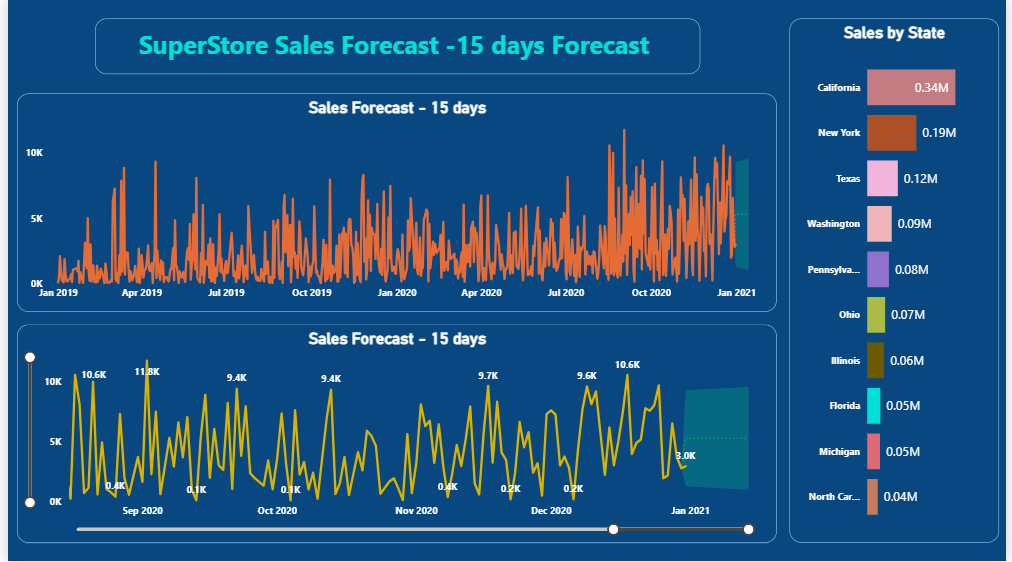

The page's visual inventory and layout, read from the dashboard file:
{"tool":"powerbi","page":{"name":"Sales Forecast ","canvas":[1280,720],"ordinal":1},"visuals":[{"type":"lineChart","title":" Sales Forecast - 15 days ","fields":{"Y":["Sum(SuperStore_Sales_Dataset.Sales)"],"Category":["SuperStore_Sales_Dataset.Order Date"]},"box":[11.4,120.4,974.3,279.8],"z":0},{"type":"lineChart","title":" Sales Forecast - 15 days ","fields":{"Y":["Sum(SuperStore_Sales_Dataset.Sales)"],"Category":["SuperStore_Sales_Dataset.Order Date"]},"box":[11.4,416.4,974.3,279.8],"z":1000},{"type":"textbox","box":[112.2,24.4,775.9,71.6],"z":2000},{"type":"clusteredBarChart","title":"  Sales by State","fields":{"Category":["SuperStore_Sales_Dataset.State"],"Y":["Sum(SuperStore_Sales_Dataset.Sales)"]},"box":[1002,24.4,268.4,671.8],"z":3000}]}

Visuals, with their boxes in screenshot pixels (x1, y1, x2, y2), scaled from the page's 1280x720 canvas onto the 1012x562 screenshot:
" Sales Forecast - 15 days " lineChart: (9,94,779,312)
" Sales Forecast - 15 days " lineChart: (9,325,779,543)
textbox: (89,19,702,75)
"  Sales by State" clusteredBarChart: (792,19,1004,543)
